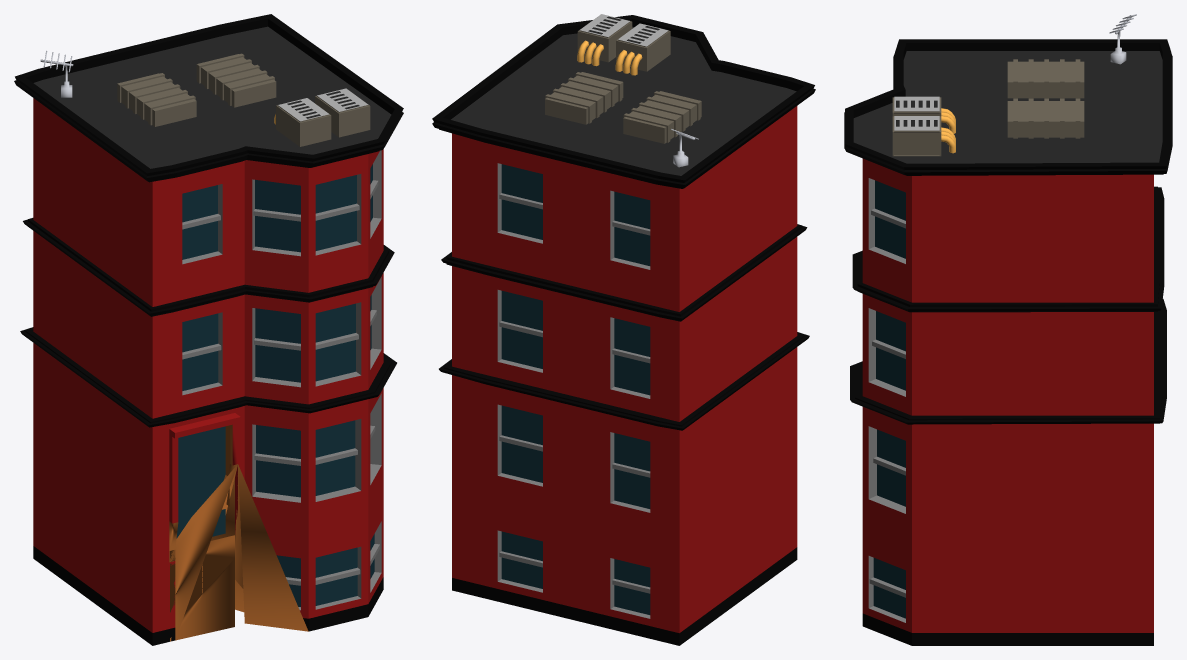
3 views of the same model, side by side, from view 1: azimuth 30°, elevation 25°; view 2: azimuth 150°, elevation 25°; view 3: azimuth 270°, elevation 25° (orthographic). The views are drawn at different scales.
Parts seen in each view (by area): view 1: Cube.018; view 2: Cube.018; view 3: Cube.018.
Boxes of the visible parts, x1,y1,x2,y2 form: Cube.018: [14, 14, 403, 645]; Cube.018: [432, 14, 815, 645]; Cube.018: [844, 14, 1172, 645].
Size of the model in its own units: 468 by 885 by 506.
